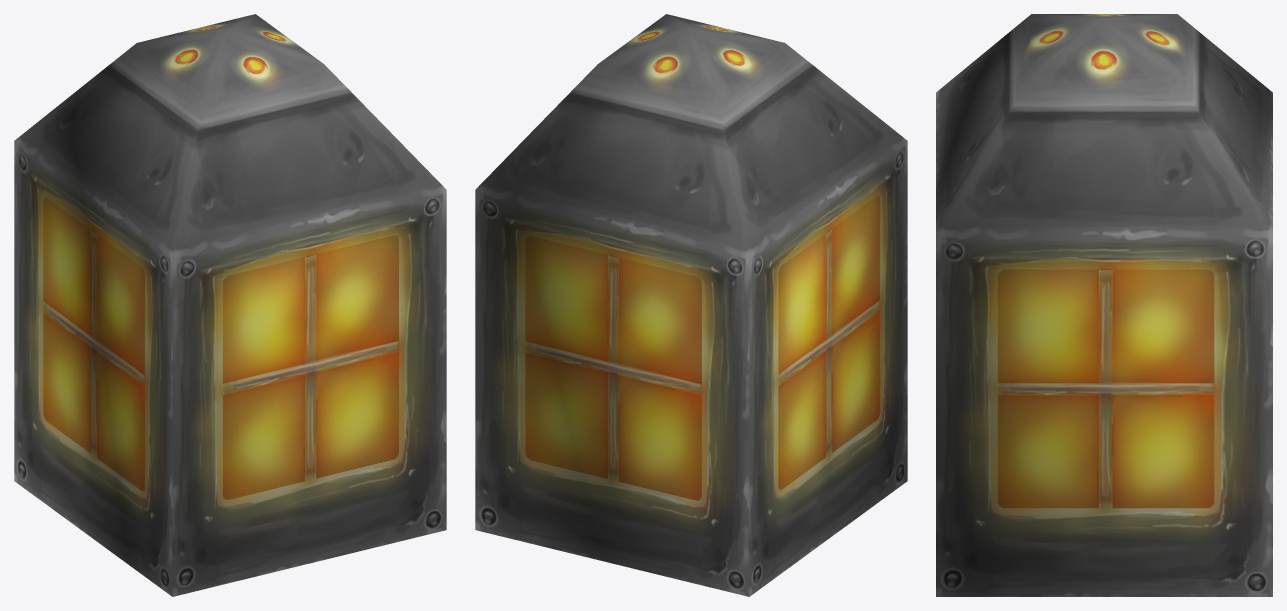
File: M_Lamp_Part.fbx
The picture shows the model from 3 angles, left to right: view 1: azimuth 30°, elevation 25°; view 2: azimuth 150°, elevation 25°; view 3: azimuth 270°, elevation 25°; orthographic projection. The views are drawn at different scales.
Visible parts, largest first — view 1: M_Lamp_Part; view 2: M_Lamp_Part; view 3: M_Lamp_Part.
Part boxes in pixels (x1,y1,x2,y2): M_Lamp_Part: (14, 14, 446, 596); M_Lamp_Part: (475, 14, 907, 596); M_Lamp_Part: (936, 14, 1272, 596).
Size of the model in its own units: 0.5743 by 0.9538 by 0.5743.
